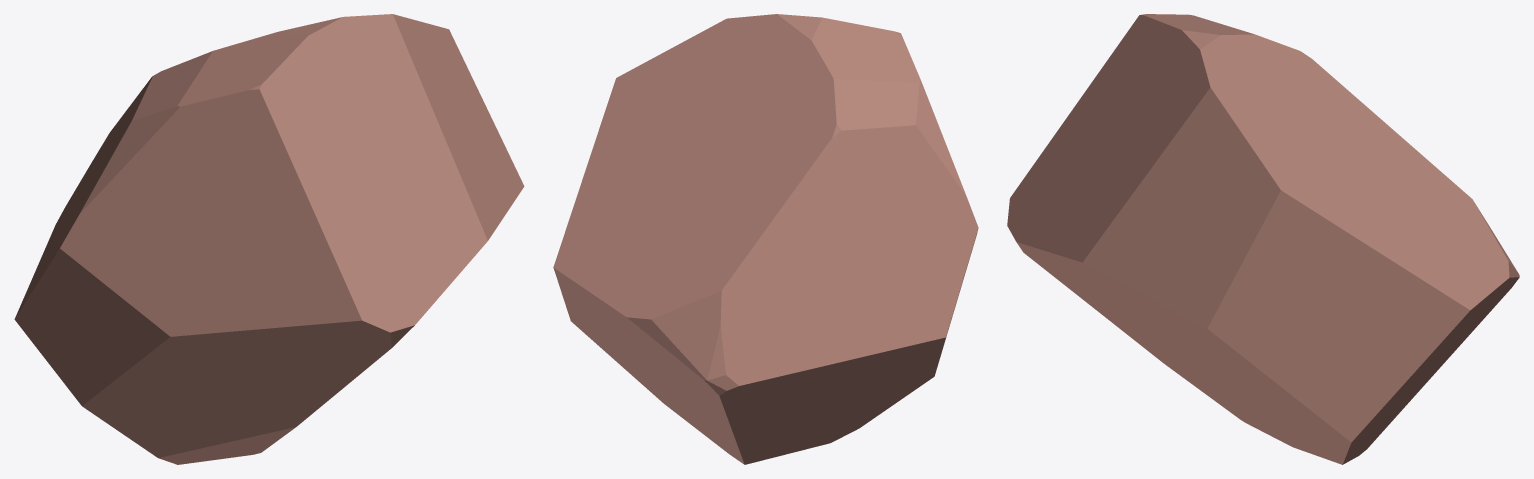
Rendered from Mesa_Rock_Small.fbx.
3 renders of one model, left to right at view 1: azimuth 30°, elevation 25°; view 2: azimuth 150°, elevation 25°; view 3: azimuth 270°, elevation 25°, orthographic. The views are drawn at different scales.
Visible parts, largest first — view 1: Icosphere.054; view 2: Icosphere.054; view 3: Icosphere.054.
Boxes of the visible parts, box(x1,y1,x2,y2) form: Icosphere.054: box(14, 14, 524, 464); Icosphere.054: box(553, 14, 978, 464); Icosphere.054: box(1007, 14, 1519, 464).
Bounding box in the file's own units: 57.15 × 56.4 × 61.9.
